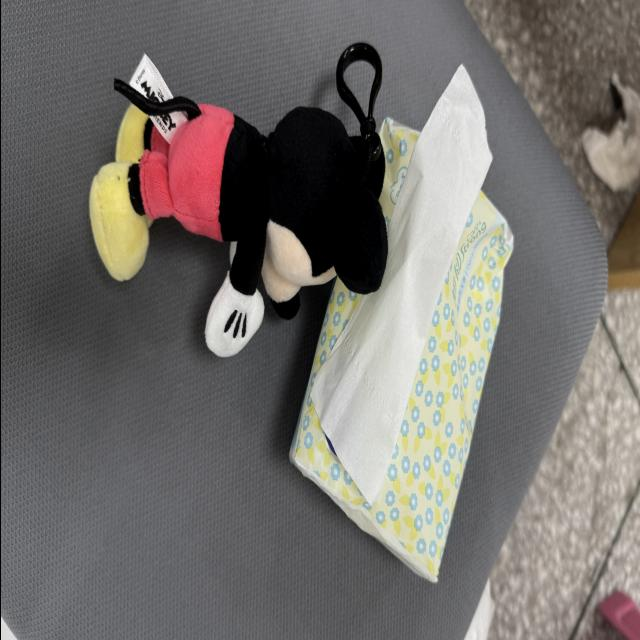mickey: (89, 104, 386, 356)
tissue: (289, 192, 512, 581), (311, 67, 490, 502), (581, 74, 639, 192), (464, 580, 494, 639)
